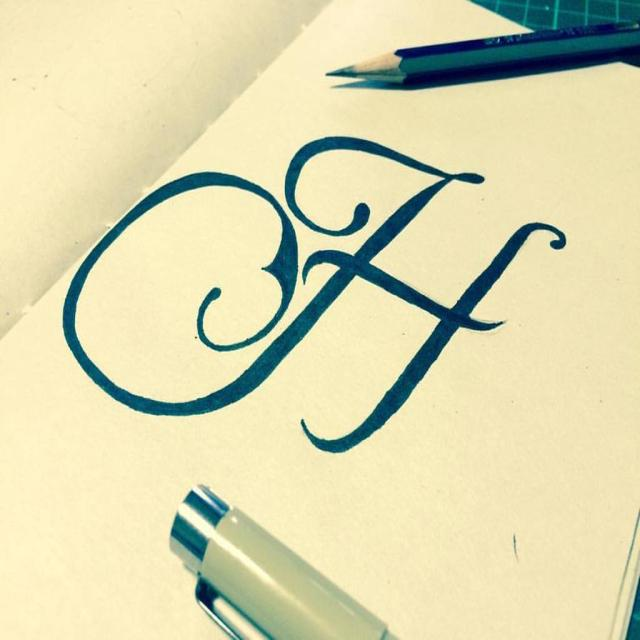pen: (167, 480, 400, 640)
